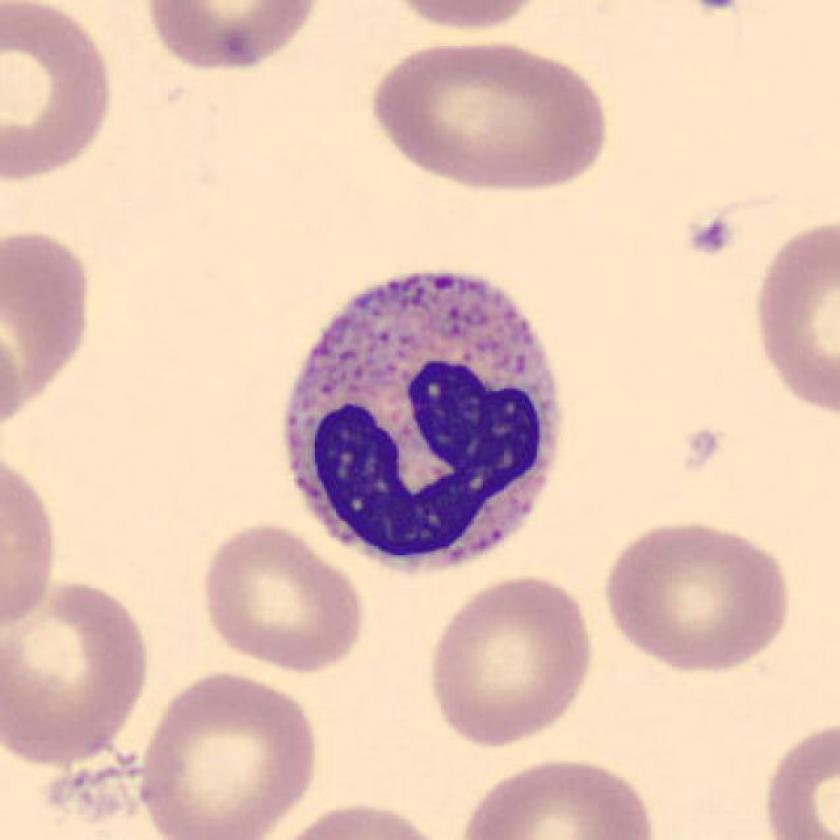neutrophil: (290, 273, 558, 569)
